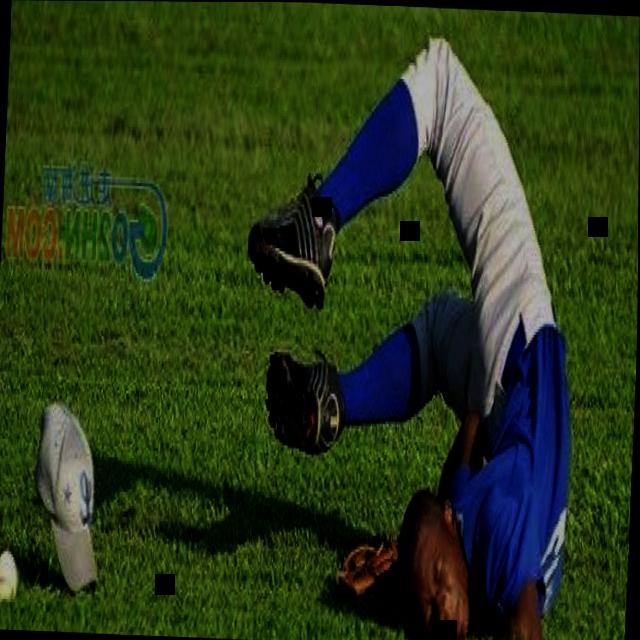Fall-Detected: (241, 18, 620, 640)
